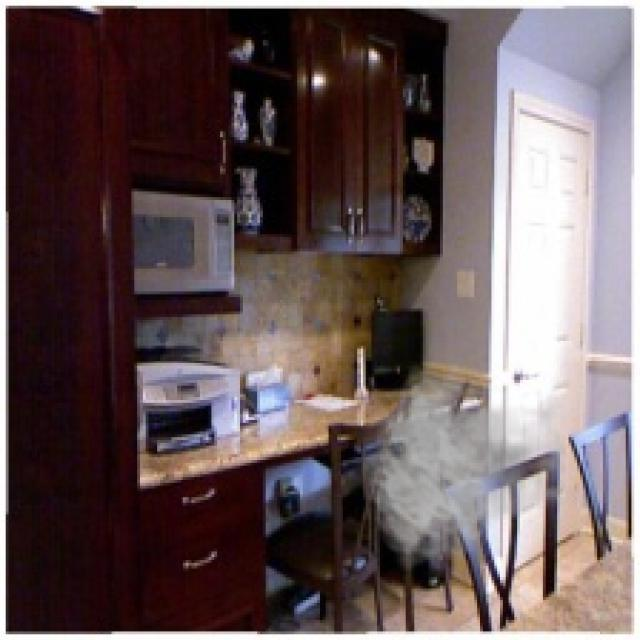Smoke: (360, 359, 583, 572)
